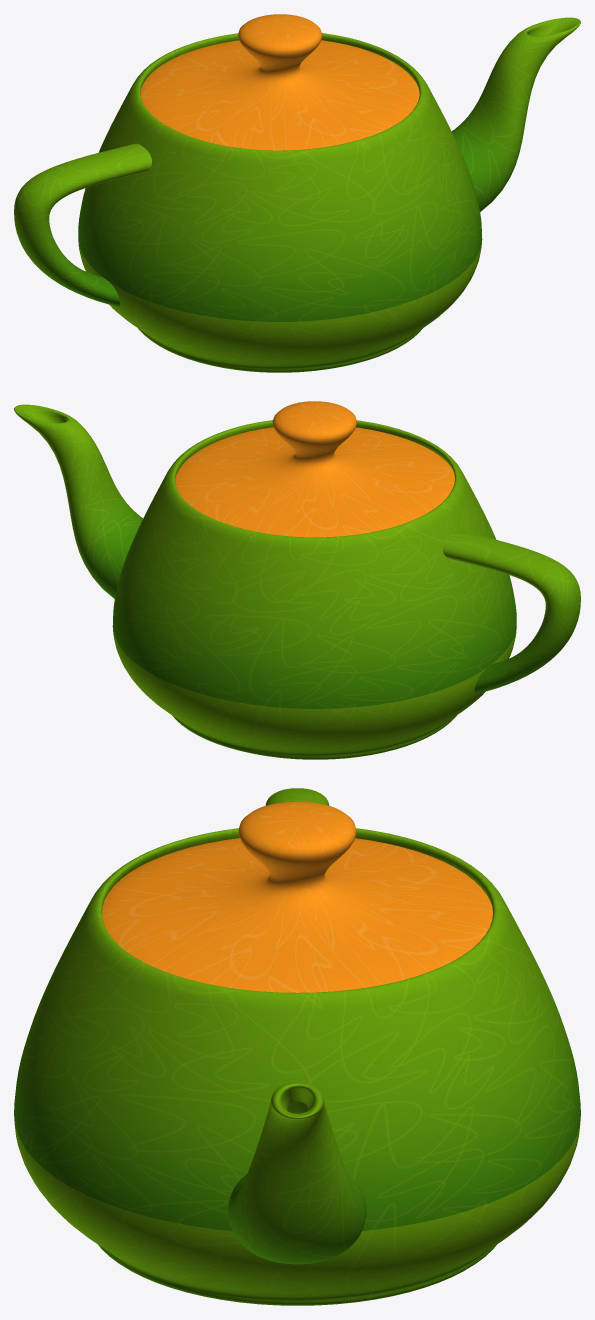
Rendered from teapotMaterial.dae.
3 renders of one model, top to bottom at view 1: azimuth 30°, elevation 25°; view 2: azimuth 150°, elevation 25°; view 3: azimuth 270°, elevation 25°, orthographic. The views are drawn at different scales.
Parts seen in each view (by area): view 1: body, top, lid, handle; view 2: body, top, lid, handle; view 3: body, top, lid, handle.
Part boxes in pixels (left/top/right/bottom): body: left=78, top=33, right=482, bottom=372; top: left=140, top=14, right=419, bottom=150; lid: left=451, top=17, right=580, bottom=211; handle: left=14, top=143, right=151, bottom=306; body: left=112, top=420, right=516, bottom=759; top: left=175, top=401, right=454, bottom=537; lid: left=14, top=404, right=143, bottom=598; handle: left=443, top=530, right=580, bottom=693; body: left=14, top=828, right=580, bottom=1305; top: left=102, top=801, right=492, bottom=992; lid: left=228, top=1082, right=366, bottom=1264; handle: left=265, top=788, right=329, bottom=805.
Size of what is drawn, in the model's own units: 120 by 74.36 by 59.63.
4 materials, 4 textured.
